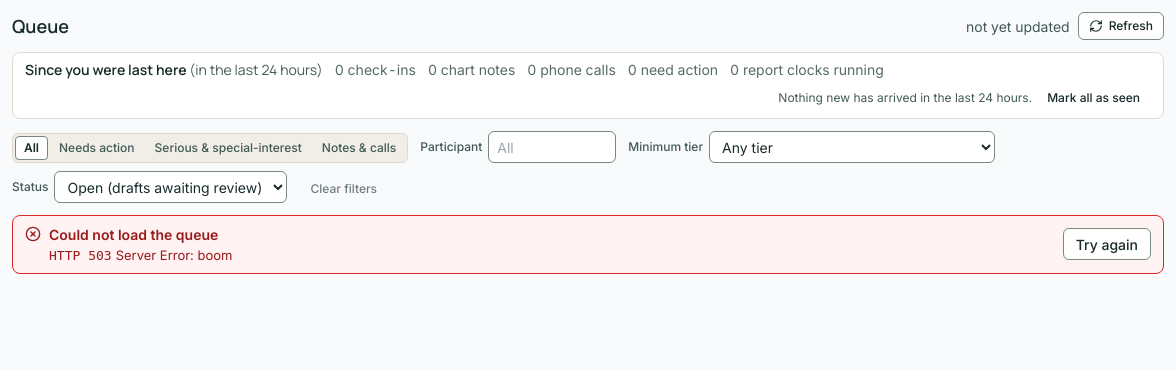
Queue page › shows an error with retry, then recovers
Check: the message shows "Could not load the queue", box left=49, top=226, right=218, bottom=243
Check: the message shows "HTTP 503", box left=12, top=215, right=1164, bottom=274
Click the button "Try again": click(1107, 244) left=1063, top=228, right=1151, bottom=260
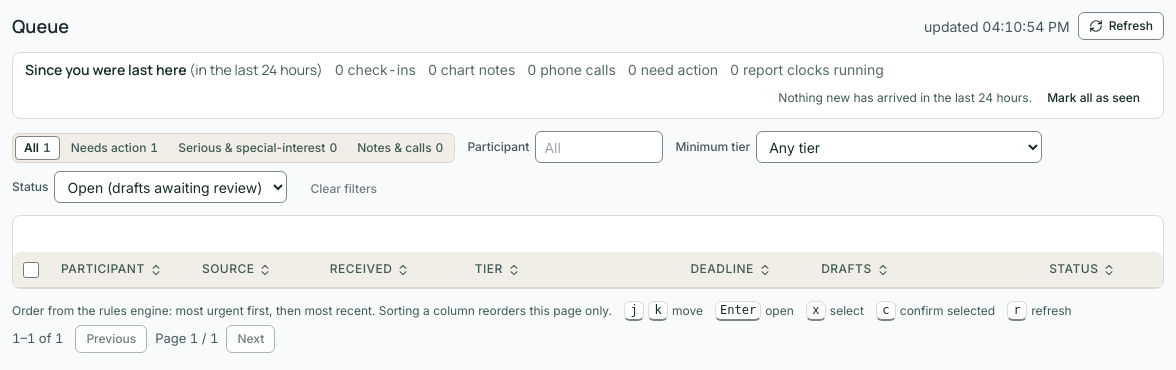
Check: the table is shown, box left=13, top=216, right=1163, bottom=288
Check: the message "Could not load the queue HTTP 503Server Error: boom Try again" is gone
